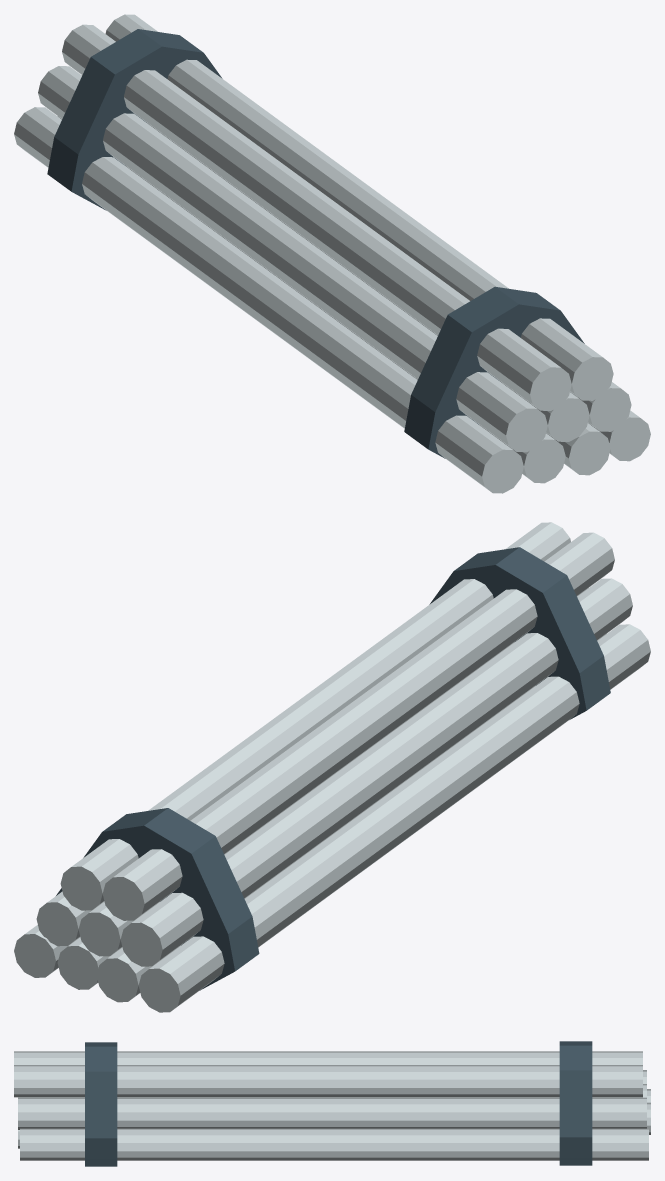
File: Metal Bars.glb
3 views of the same model, one above another, from view 1: azimuth 30°, elevation 25°; view 2: azimuth 150°, elevation 25°; view 3: azimuth 270°, elevation 25° (orthographic). The views are drawn at different scales.
Parts seen in each view (by area): view 1: Node; view 2: Node; view 3: Node.
Part boxes in pixels (bbox=[...]): Node: bbox=[14, 14, 650, 493]; Node: bbox=[14, 522, 650, 1012]; Node: bbox=[14, 1041, 650, 1166].
Bounding box in the file's own units: 0.3532 × 0.3 × 1.57.
